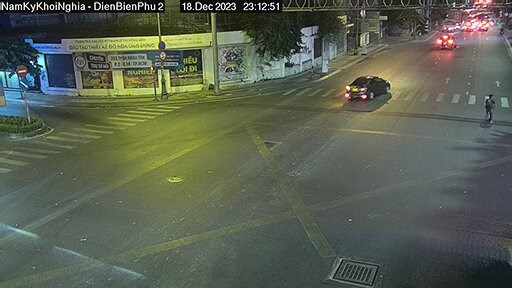car: (342, 72, 389, 101), (432, 32, 459, 53)
